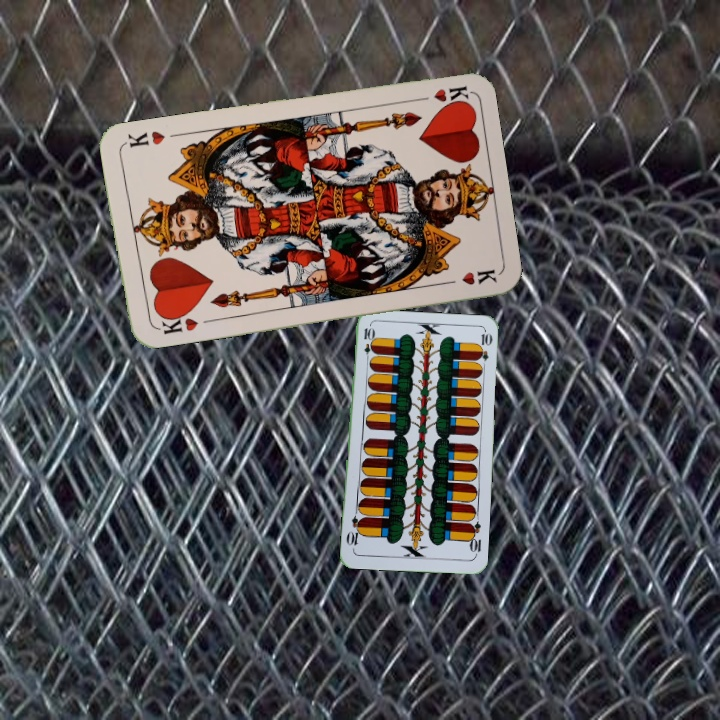E10: (464, 518, 484, 559), (360, 324, 374, 364)
HK: (410, 81, 470, 109), (151, 307, 200, 337)
